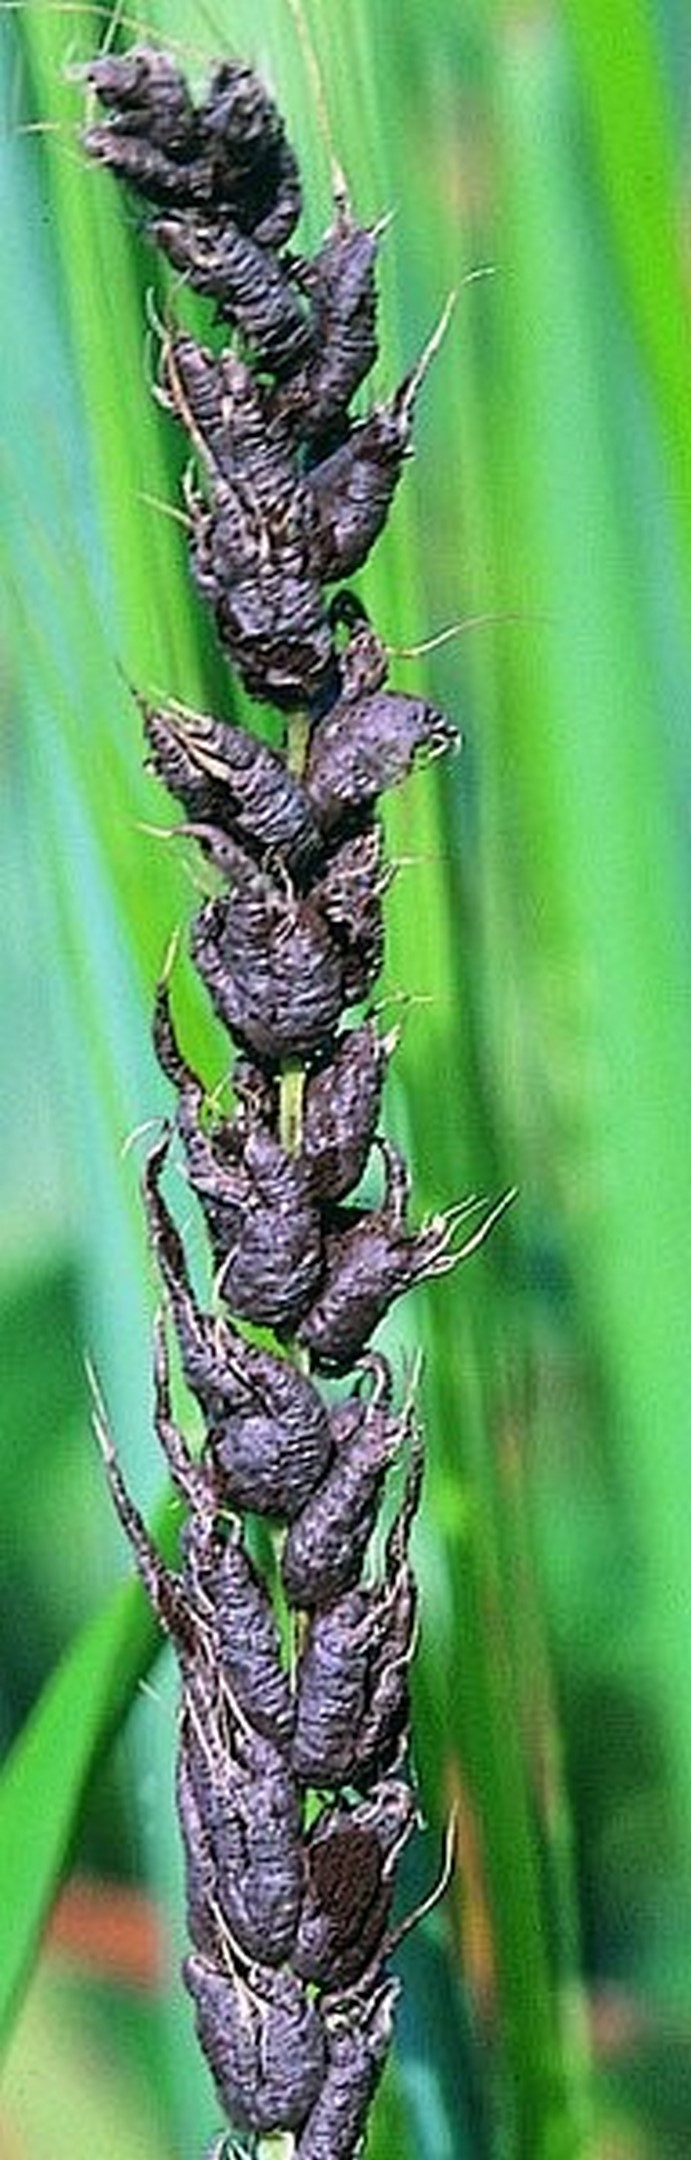Wheat Loose Smut: (25, 59, 489, 2145)
